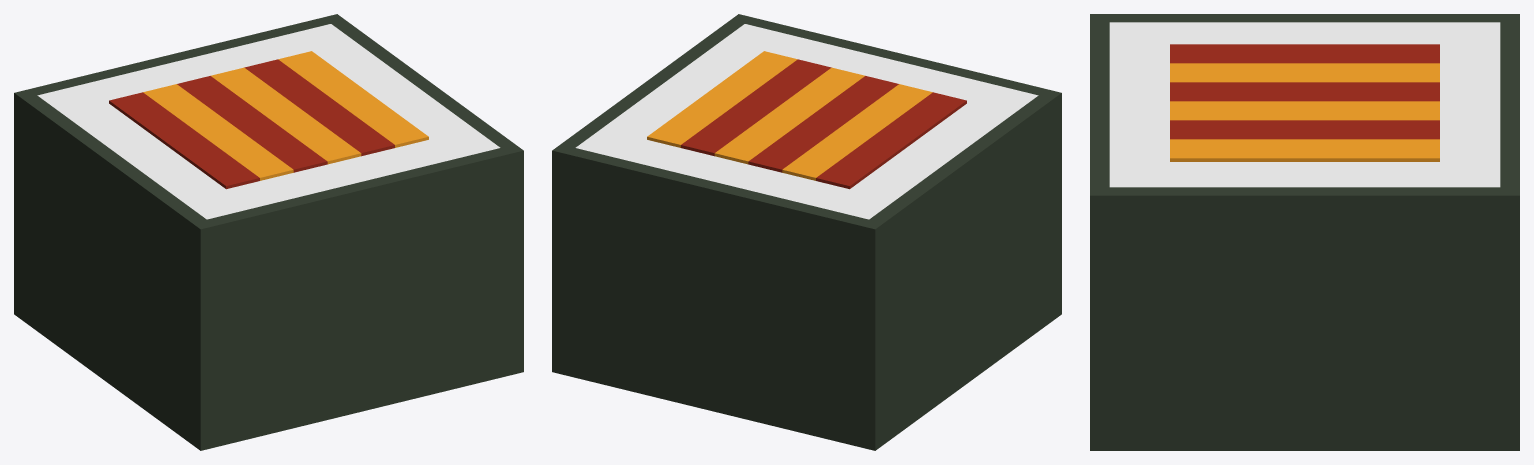
Rendered from Sushi_2.fbx.
3 views of the same model, side by side, from view 1: azimuth 30°, elevation 25°; view 2: azimuth 150°, elevation 25°; view 3: azimuth 270°, elevation 25° (orthographic). The views are drawn at different scales.
Parts seen in each view (by area): view 1: Sushi_2; view 2: Sushi_2; view 3: Sushi_2.
Part boxes in pixels (x1,y1,x2,y2): Sushi_2: [14, 14, 523, 450]; Sushi_2: [552, 14, 1061, 450]; Sushi_2: [1090, 14, 1519, 450].
Size of the model in its own units: 10.64 by 7.07 by 10.64.
